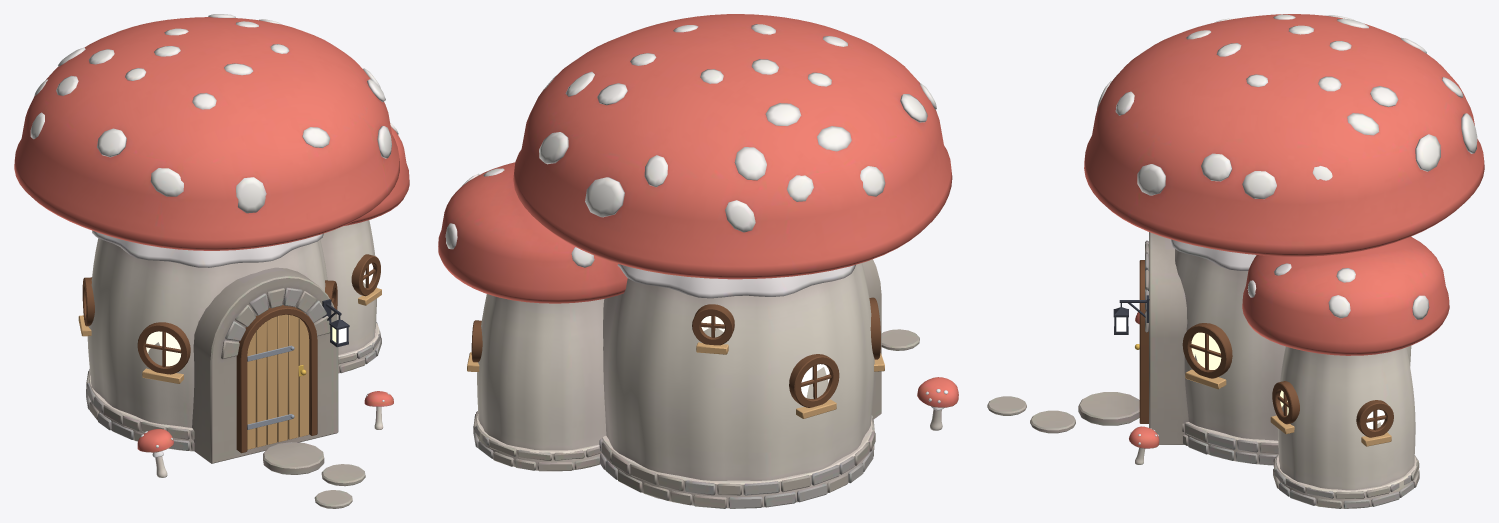
Rendered from fantasy-mushroom-house-animated.glb.
3 renders of one model, left to right at view 1: azimuth 30°, elevation 25°; view 2: azimuth 150°, elevation 25°; view 3: azimuth 270°, elevation 25°, orthographic. The views are drawn at different scales.
Parts seen in each view (by area): view 1: fantasy-mushroom-house_body, fantasy-mushroom-house_front_door, fantasy-mushroom-house_details, fantasy-mushroom-house_window_glow; view 2: fantasy-mushroom-house_body, fantasy-mushroom-house_details; view 3: fantasy-mushroom-house_body, fantasy-mushroom-house_details, fantasy-mushroom-house_window_glow.
Boxes of the visible parts, <box> form: fantasy-mushroom-house_body: <box>14,14,409,508</box>; fantasy-mushroom-house_front_door: <box>247,314,309,449</box>; fantasy-mushroom-house_details: <box>78,254,381,453</box>; fantasy-mushroom-house_window_glow: <box>146,263,373,366</box>; fantasy-mushroom-house_body: <box>438,14,958,508</box>; fantasy-mushroom-house_details: <box>467,297,884,418</box>; fantasy-mushroom-house_body: <box>987,14,1484,508</box>; fantasy-mushroom-house_details: <box>1139,260,1393,446</box>; fantasy-mushroom-house_window_glow: <box>1113,295,1384,429</box>.
Bounding box in the file's own units: 6.01 × 5.3 × 6.49.
Materials: 9 (1 with a texture image).
